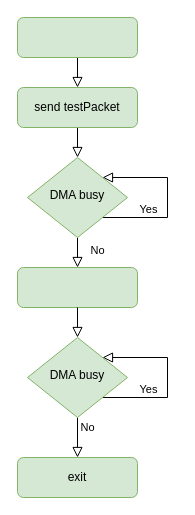
Image size: 195x515. Some labels were removed from this diagram. The shapes that lost their labels are listed below. From the top down, each one's box as (x1, y1, x2, y2) in pixels, then its label:
(16, 16, 138, 58): setup DMA
(16, 266, 138, 308): receive packet
